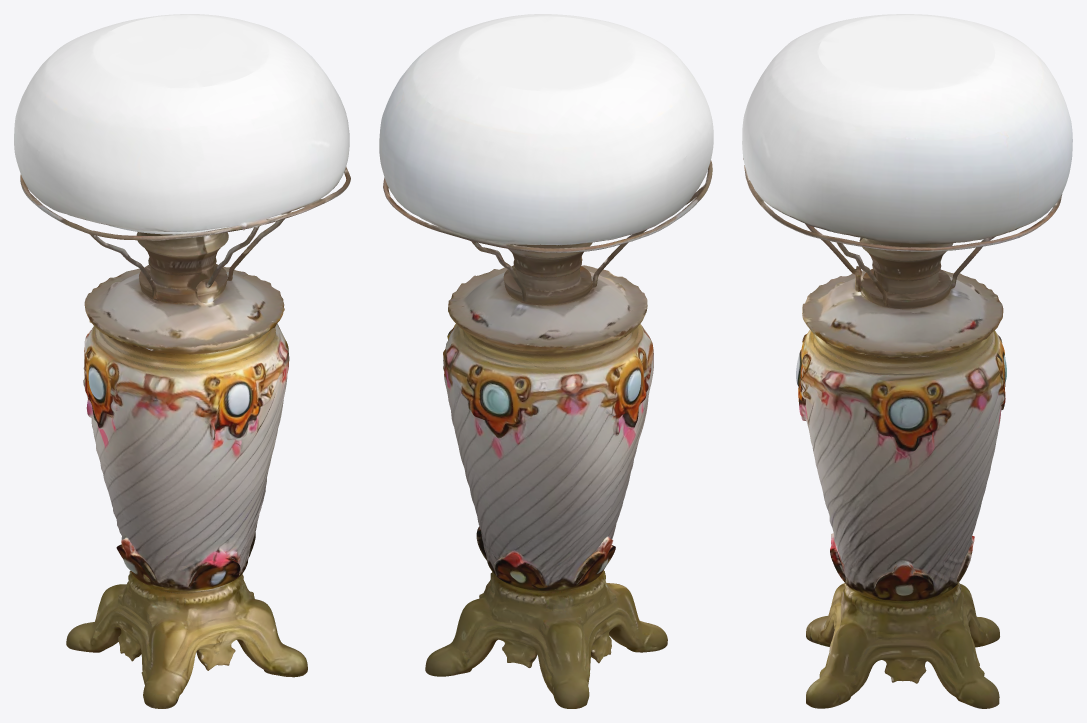
Rendered from kerosene.glb.
The picture shows the model from 3 angles, left to right: view 1: azimuth 30°, elevation 25°; view 2: azimuth 150°, elevation 25°; view 3: azimuth 270°, elevation 25°; orthographic projection.
Visible parts, largest first — view 1: model; view 2: model; view 3: model.
Part boxes in pixels (box(x1,y1,x2,y2)): model: box(14, 14, 350, 708); model: box(379, 14, 713, 708); model: box(742, 14, 1072, 708).
Bounding box in the file's own units: 0.9342 × 1.9 × 0.924.
Materials: 1 (1 with a texture image).
